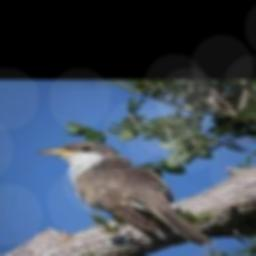Cuckoo: (38, 141, 216, 245)
